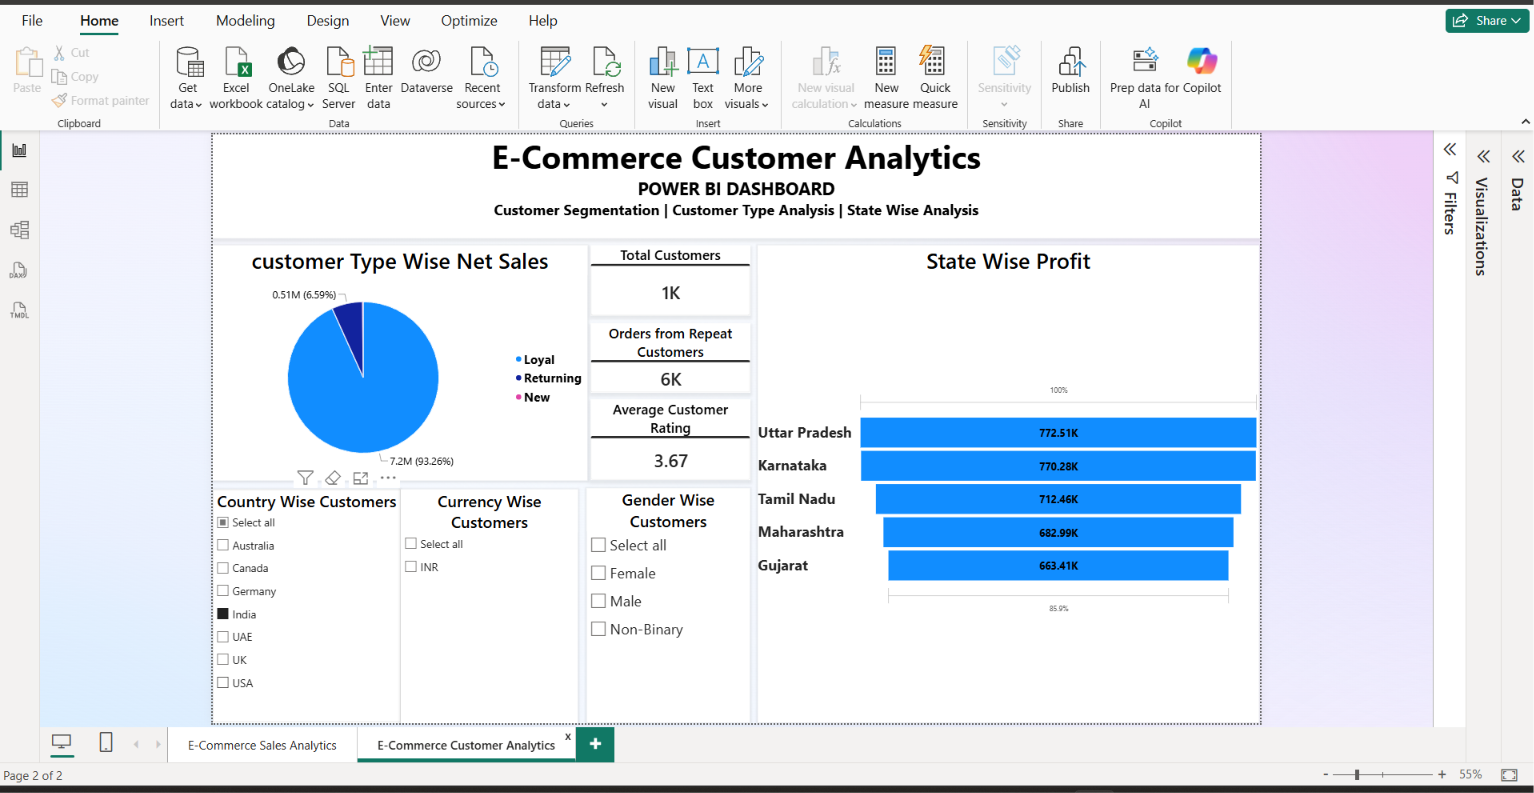

Layout of this report page (visuals, bound fields, positions):
{"tool":"powerbi","page":{"name":"E-Commerce Customer Analytics","canvas":[1920,1080],"ordinal":1},"visuals":[{"type":"textbox","box":[0,0,1920.5,190.8],"z":0},{"type":"cardVisual","title":"Total Customers","fields":{"Data":["ecommerce_sales_customer_analyt.total customers"]},"box":[692.6,203.9,292.4,128.9],"z":1000},{"type":"cardVisual","title":"Orders from Repeat Customers","fields":{"Data":["ecommerce_sales_customer_analyt.Repeat Customers"]},"box":[692.6,346.3,292.4,127],"z":2000},{"type":"cardVisual","title":"Average Customer Rating","fields":{"Data":["Avg(ecommerce_sales_customer_analyt.customer_rating)"]},"box":[692.6,486.7,292.4,148.1],"z":3000},{"type":"pieChart","title":"customer Type Wise Net Sales","fields":{"Category":["ecommerce_sales_customer_analyt.customer_type"],"Y":["ecommerce_sales_customer_analyt.Total saless"]},"box":[0,203.9,686.8,430.9],"z":4000},{"type":"slicer","title":"Country Wise Customers","fields":{"Values":["ecommerce_sales_customer_analyt.customer_country"]},"box":[0,650.3,344.4,429],"z":5000},{"type":"slicer","title":"Currency Wise Customers","fields":{"Values":["ecommerce_sales_customer_analyt.currency"]},"box":[344.8,651.2,325.1,429],"z":6000},{"type":"funnel","title":"State Wise Profit","fields":{"Category":["ecommerce_sales_customer_analyt.customer_state"],"Y":["ecommerce_sales_customer_analyt.total profit"]},"box":[1000.4,203.9,919.6,875.4],"z":7000},{"type":"slicer","title":"Gender Wise Customers","fields":{"Values":["ecommerce_sales_customer_analyt.gender"]},"box":[686,649.3,299,429.2],"z":8000}]}

Visuals, with their boxes on the page's 1920x1080 design canvas (x1, y1, x2, y2). These are canvas units, not pixel positions in the 1534x793 screenshot, which may show the page scaled, cropped or inside an application window:
textbox: bbox=[0, 0, 1920, 191]
"Total Customers" cardVisual: bbox=[693, 204, 985, 333]
"Orders from Repeat Customers" cardVisual: bbox=[693, 346, 985, 473]
"Average Customer Rating" cardVisual: bbox=[693, 487, 985, 635]
"customer Type Wise Net Sales" pieChart: bbox=[0, 204, 687, 635]
"Country Wise Customers" slicer: bbox=[0, 650, 344, 1079]
"Currency Wise Customers" slicer: bbox=[345, 651, 670, 1080]
"State Wise Profit" funnel: bbox=[1000, 204, 1920, 1079]
"Gender Wise Customers" slicer: bbox=[686, 649, 985, 1078]
